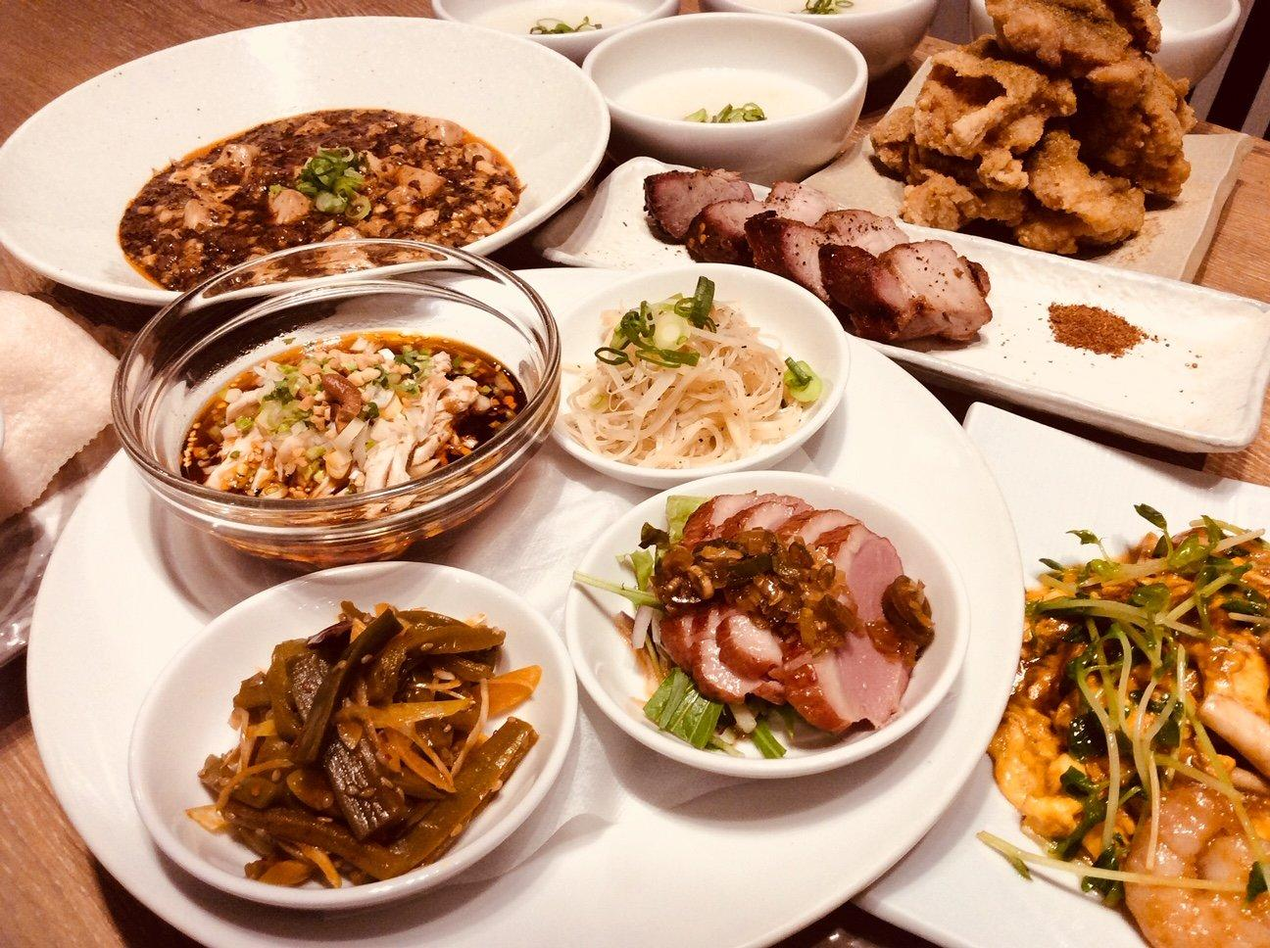Braised Crucian Carp: (484, 136, 1269, 492), (0, 18, 607, 309), (100, 234, 568, 581), (129, 566, 581, 905), (576, 469, 968, 799), (575, 262, 821, 472)
